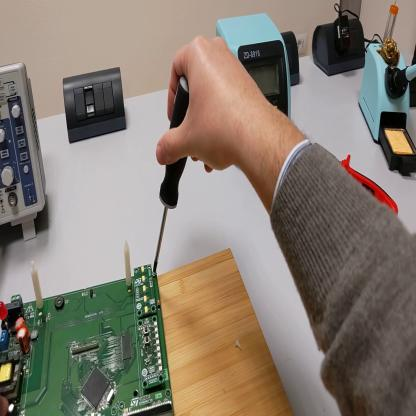hand: (159, 36, 262, 182)
low voltage board: (1, 241, 175, 416)
oscilloscope: (2, 62, 47, 239)
pliers: (336, 154, 399, 218)
screwdriver-: (153, 76, 190, 272)
socket: (314, 19, 368, 77), (282, 35, 300, 85)
welder base: (362, 42, 416, 179)
welder probe tip: (388, 56, 414, 107)
welder station: (217, 15, 292, 126)
working area: (159, 249, 294, 416)
